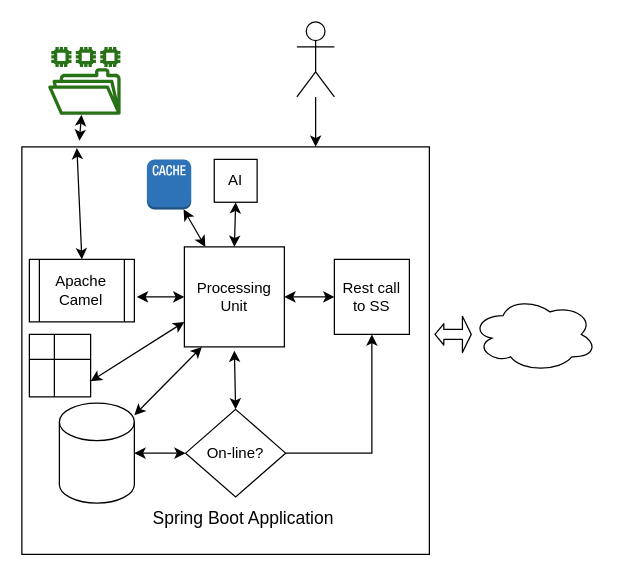
Image size: 619x576. Some labels were removed from this diagram. Each missing label, with the box of its shape:
Actor: (296, 21, 334, 97)
Cloud: (471, 296, 597, 372)
Local DB/In-line memory DB: (58, 402, 134, 503)
